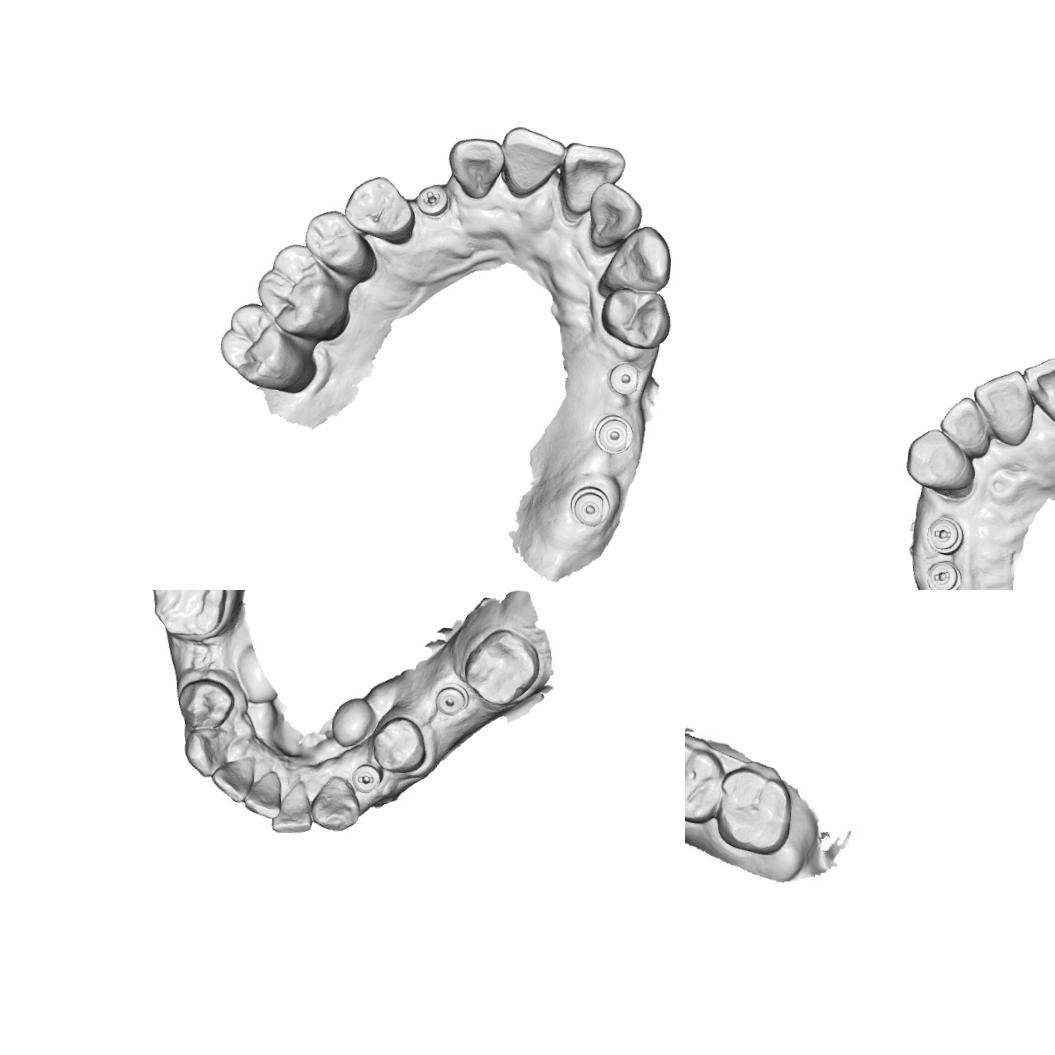canine: (596, 220, 674, 296), (902, 425, 968, 492), (308, 773, 362, 832), (181, 725, 232, 779)
implant: (568, 482, 615, 528), (592, 412, 638, 456), (606, 357, 643, 397), (432, 680, 470, 718)
implant_minus: (922, 514, 964, 555), (923, 558, 964, 590), (350, 761, 384, 795)
implant_plus: (414, 180, 452, 218)
incisor: (556, 140, 627, 220), (496, 123, 568, 198), (972, 366, 1038, 446), (584, 178, 645, 252), (935, 394, 998, 460), (444, 134, 505, 202), (207, 752, 256, 804), (269, 779, 314, 835), (1025, 352, 1055, 432), (240, 768, 282, 819)
molar: (252, 240, 350, 342), (215, 300, 308, 392), (716, 766, 792, 856), (461, 626, 543, 708), (149, 590, 228, 638), (685, 731, 726, 822)
premolar: (339, 171, 418, 243), (597, 284, 674, 352), (300, 206, 370, 274), (369, 713, 427, 774), (175, 674, 236, 732)
